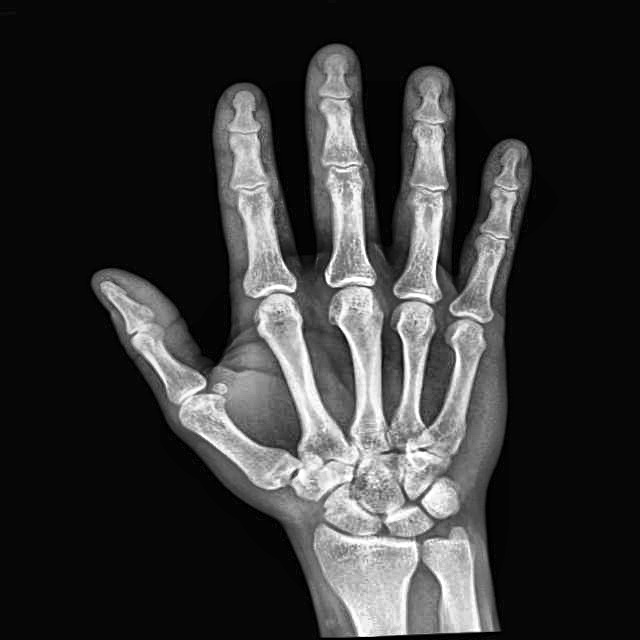Healthy: (139, 119, 538, 606)
